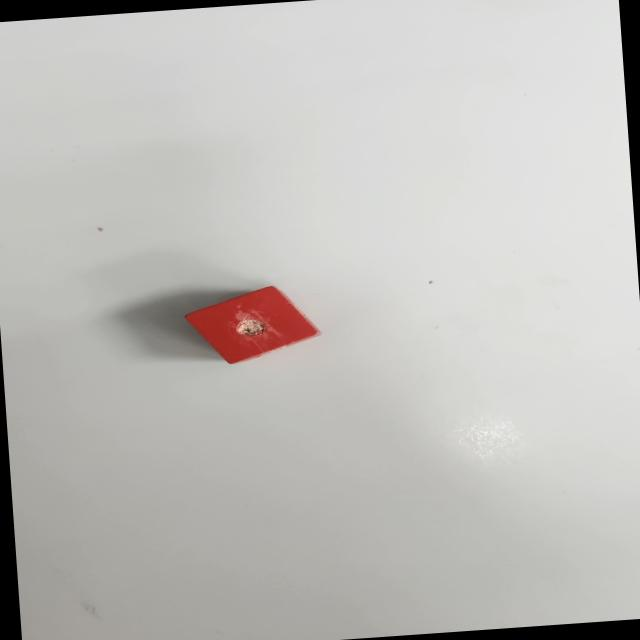broken: (181, 282, 324, 368)
